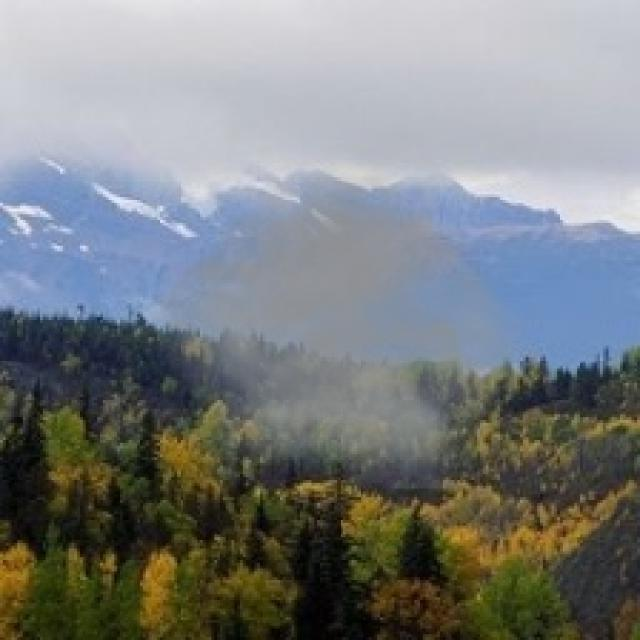smoke: (134, 128, 546, 488)
